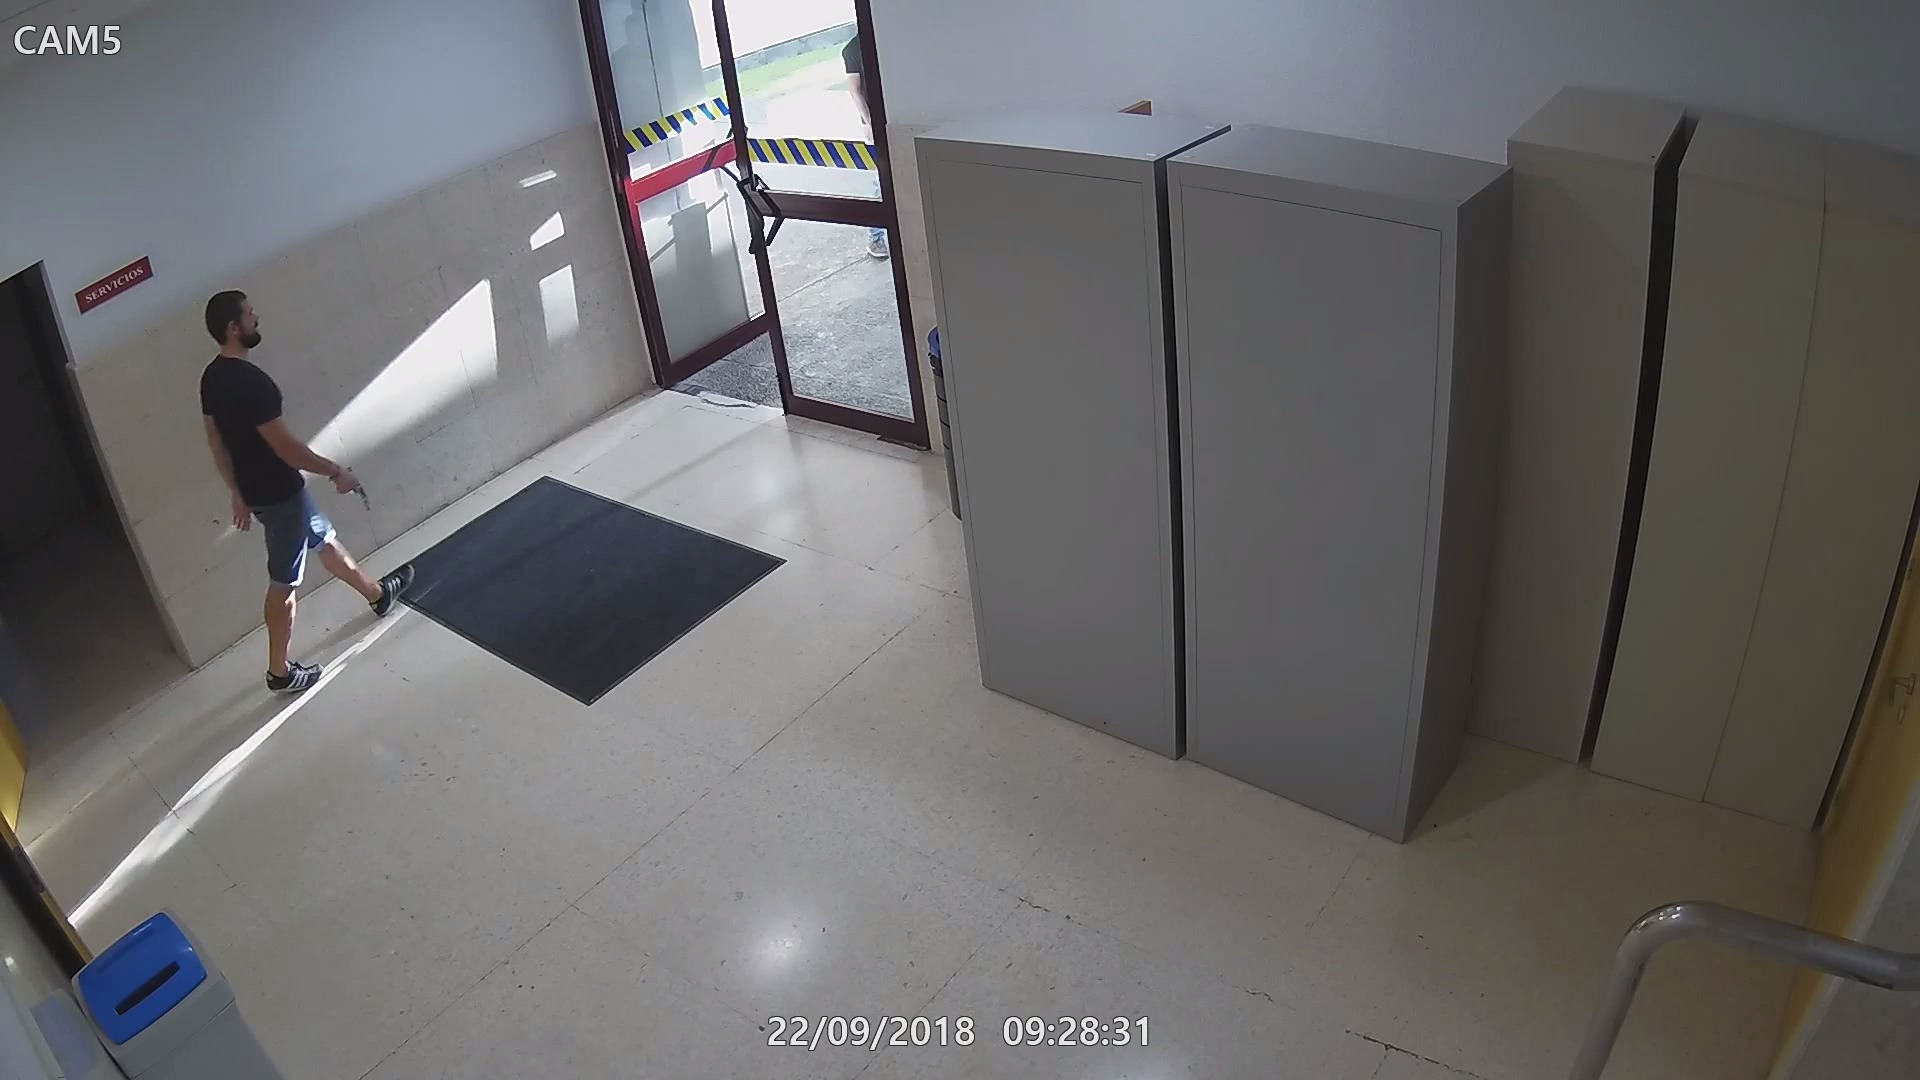Handgun: (326, 469, 375, 510)
